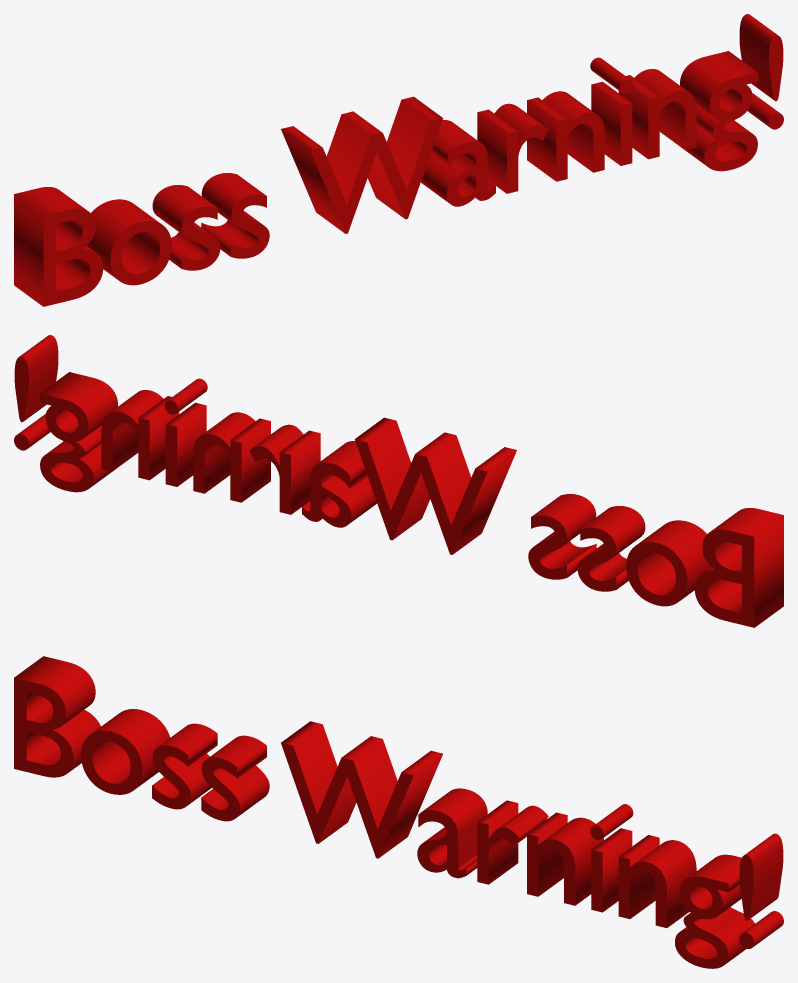
File: BossWarning.obj
3 renders of one model, top to bottom at view 1: azimuth 30°, elevation 25°; view 2: azimuth 150°, elevation 25°; view 3: azimuth 330°, elevation 25°, orthographic.
Visible parts, largest first — view 1: Text_CUText; view 2: Text_CUText; view 3: Text_CUText.
Boxes of the visible parts, bbox=[...] form: Text_CUText: bbox=[14, 14, 783, 306]; Text_CUText: bbox=[14, 335, 783, 627]; Text_CUText: bbox=[14, 656, 783, 968].
Size of the model in its own units: 5.79 by 0.921 by 0.4.
